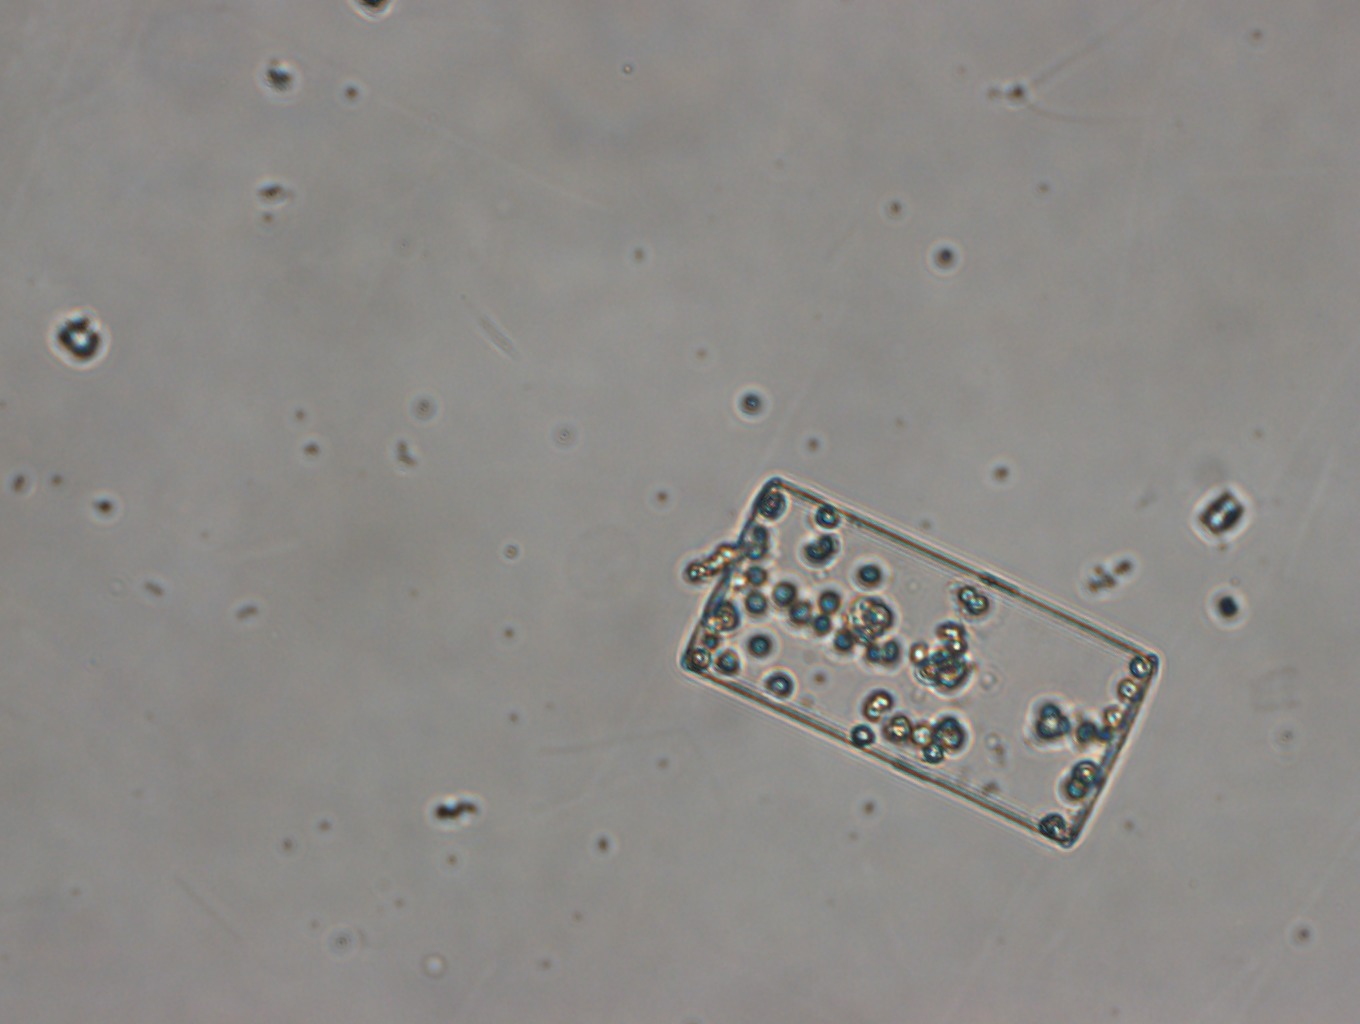guinardia flaccida: (676, 475, 1163, 850)
